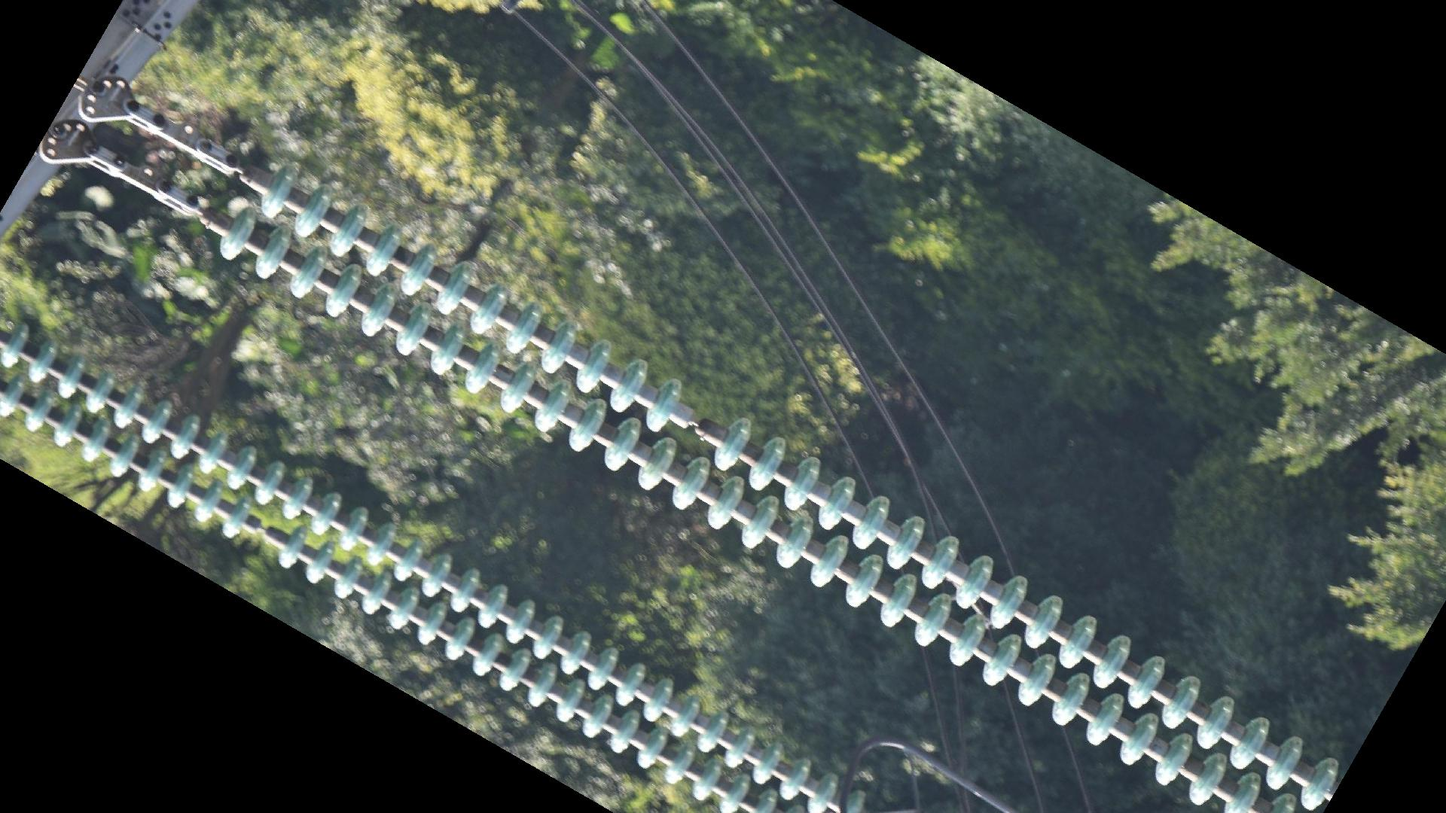insulator: (209, 163, 1341, 813), (1, 314, 874, 813)
insulator_stringdrop: (644, 375, 758, 475), (218, 492, 309, 573)
